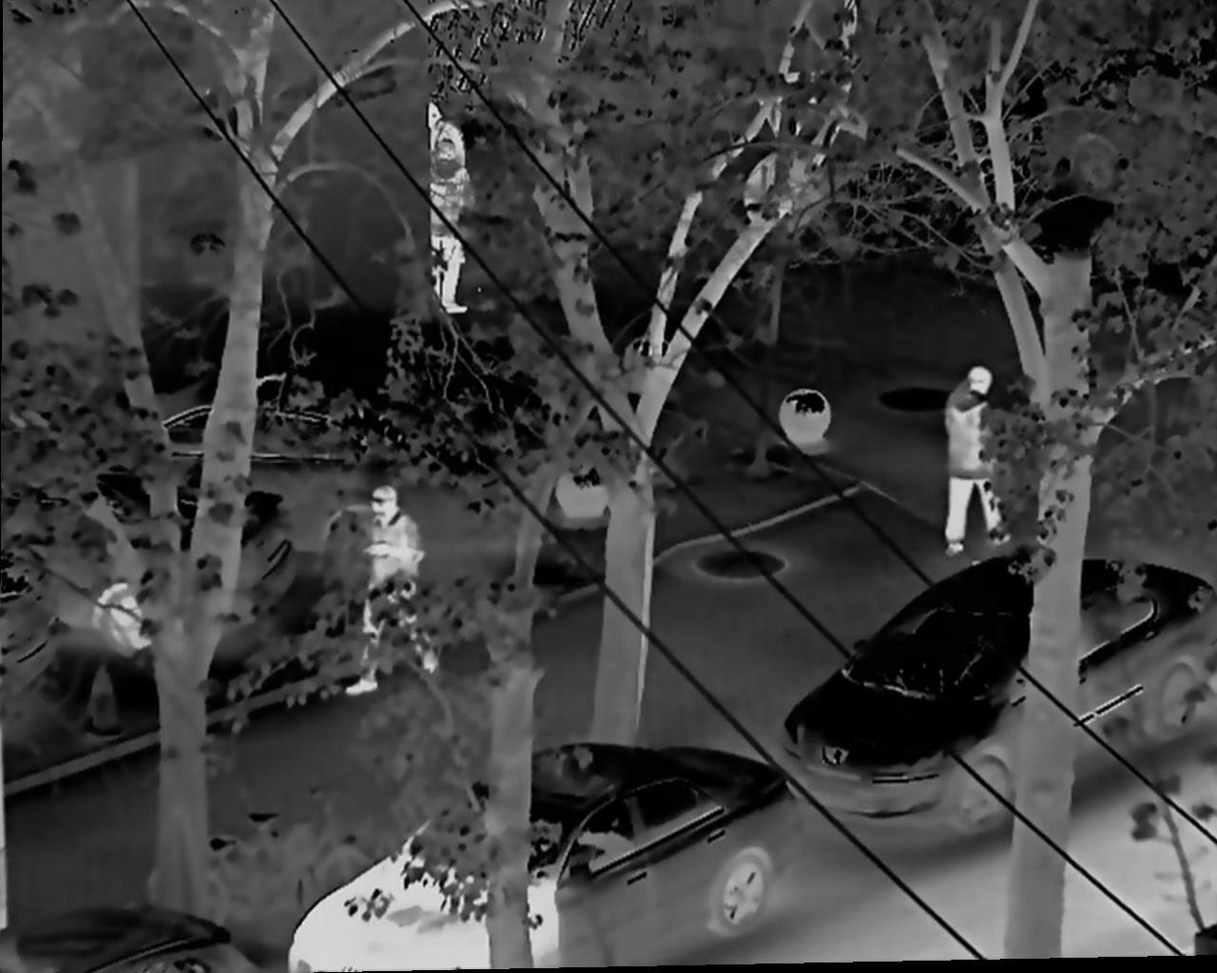person: (349, 486, 433, 698), (939, 365, 1008, 557), (432, 137, 473, 317)
